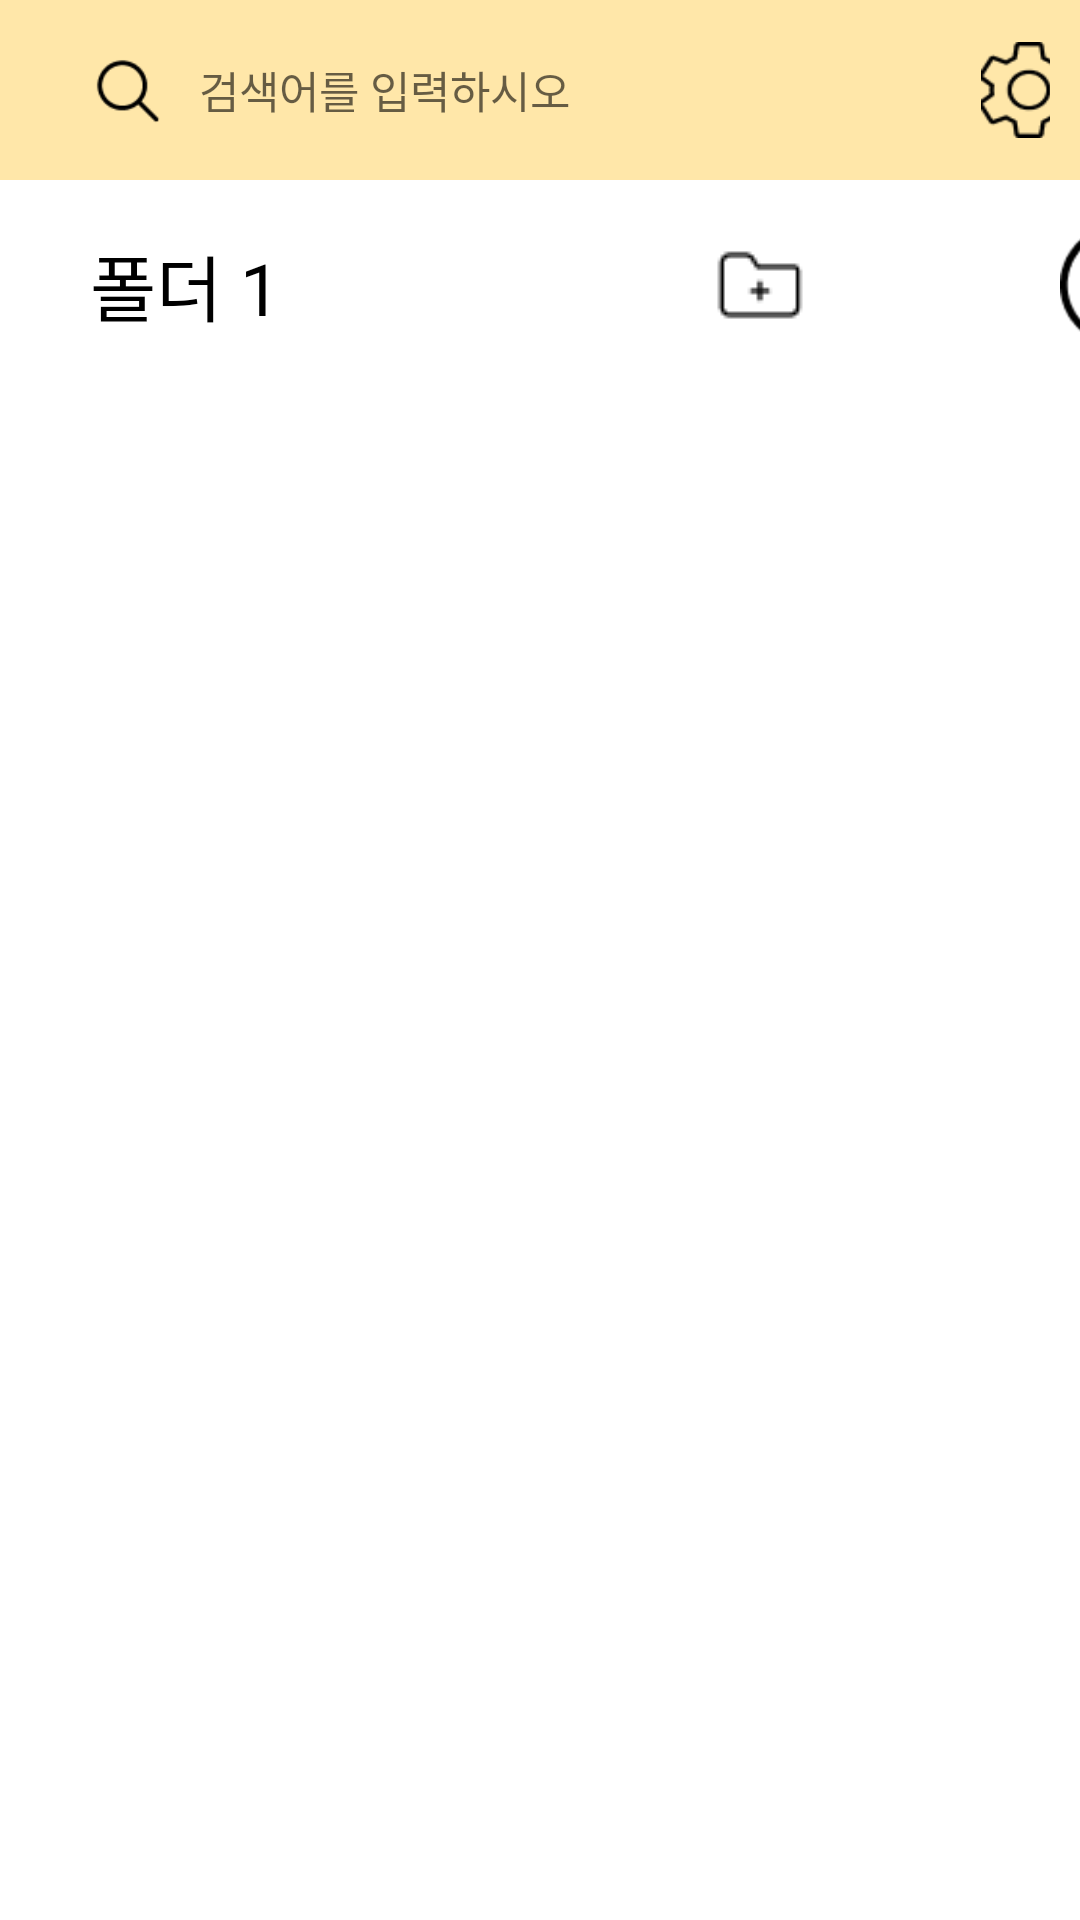

Where to tap for icons on this 1080px×1920px app screen, as (x=x, y=y):
add folder: (x=760, y=285)
settin: (x=1015, y=90)
